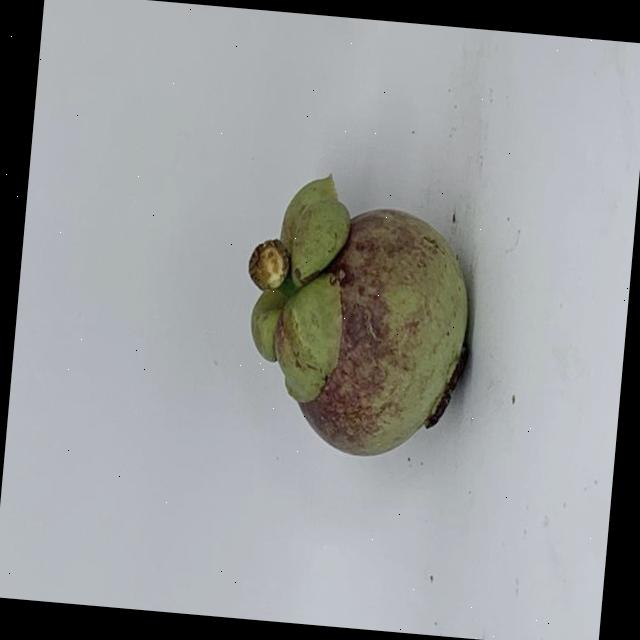mangosteen: (204, 166, 490, 470)
